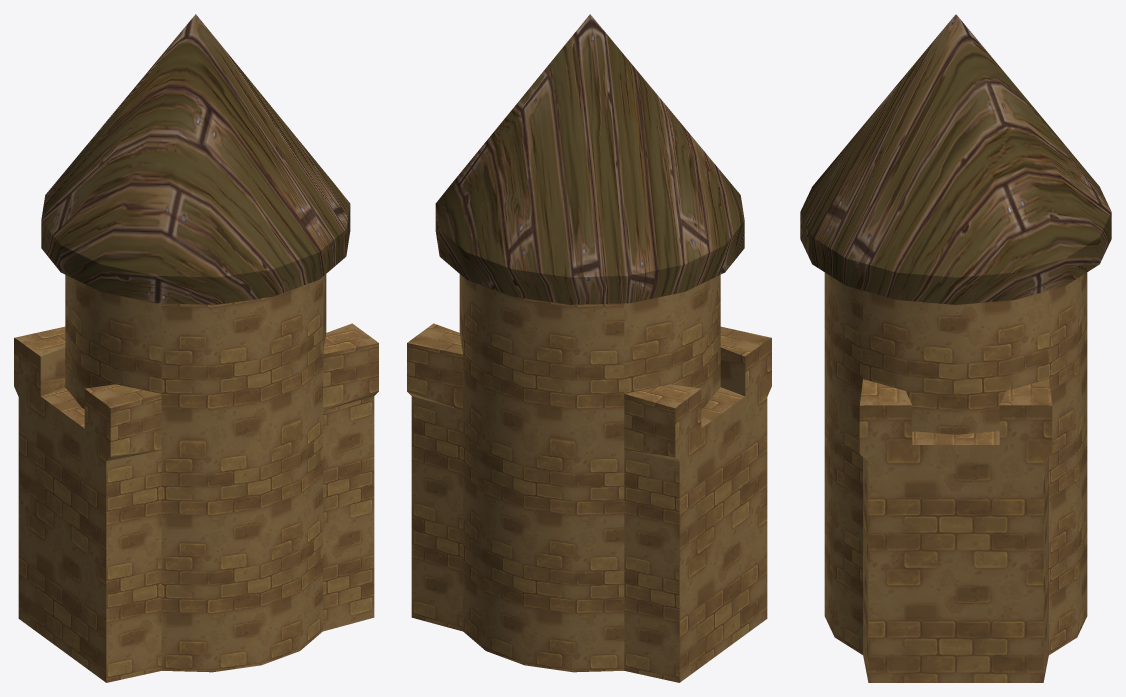
The model's file is castle_tower.fbx.
The picture shows the model from 3 angles, left to right: view 1: azimuth 30°, elevation 25°; view 2: azimuth 150°, elevation 25°; view 3: azimuth 270°, elevation 25°; orthographic projection.
Parts seen in each view (by area): view 1: castle_tower; view 2: castle_tower; view 3: castle_tower.
Part boxes in pixels (x1,y1,x2,y2): castle_tower: (14,14,378,682); castle_tower: (407,14,771,682); castle_tower: (800,14,1111,682).
Size of the model in its own units: 711 by 1521 by 711.
